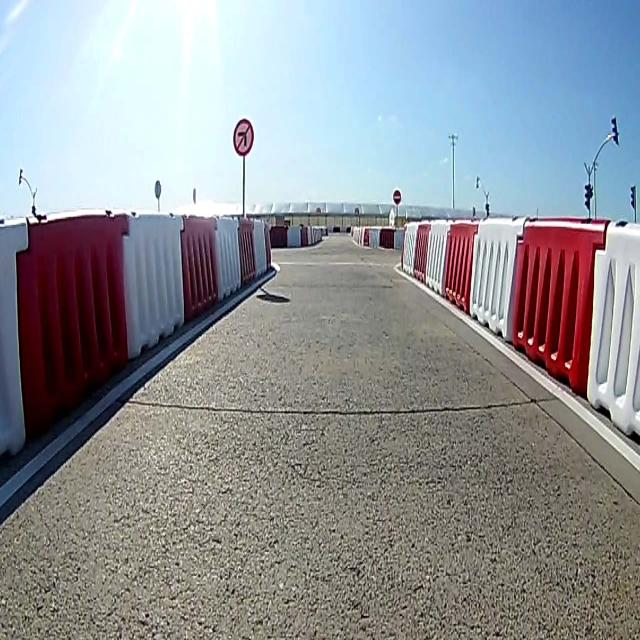girisyok: (391, 188, 401, 204)
soladonulmez: (232, 118, 258, 158)
